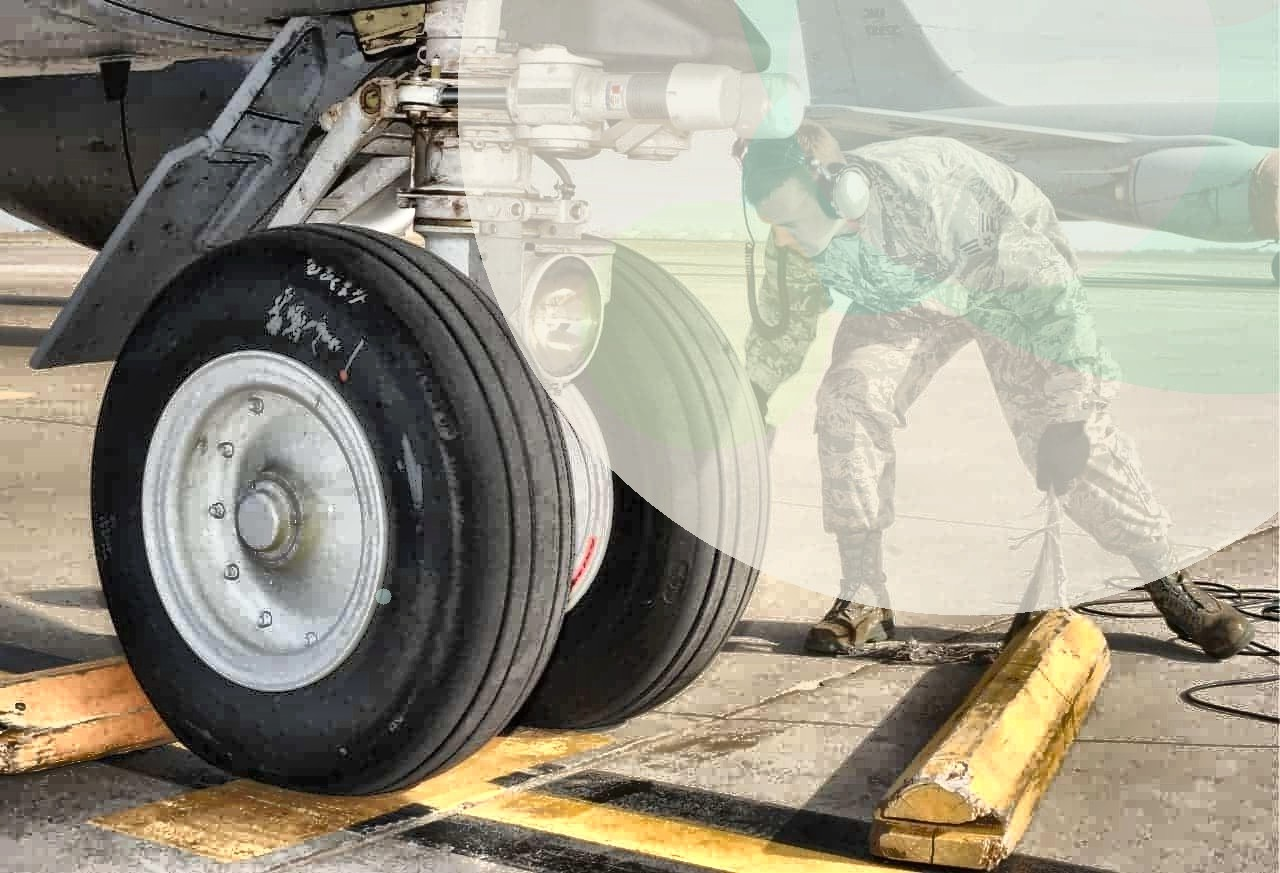chock: (867, 601, 1112, 873)
wheel: (99, 223, 577, 788), (495, 233, 768, 730)
